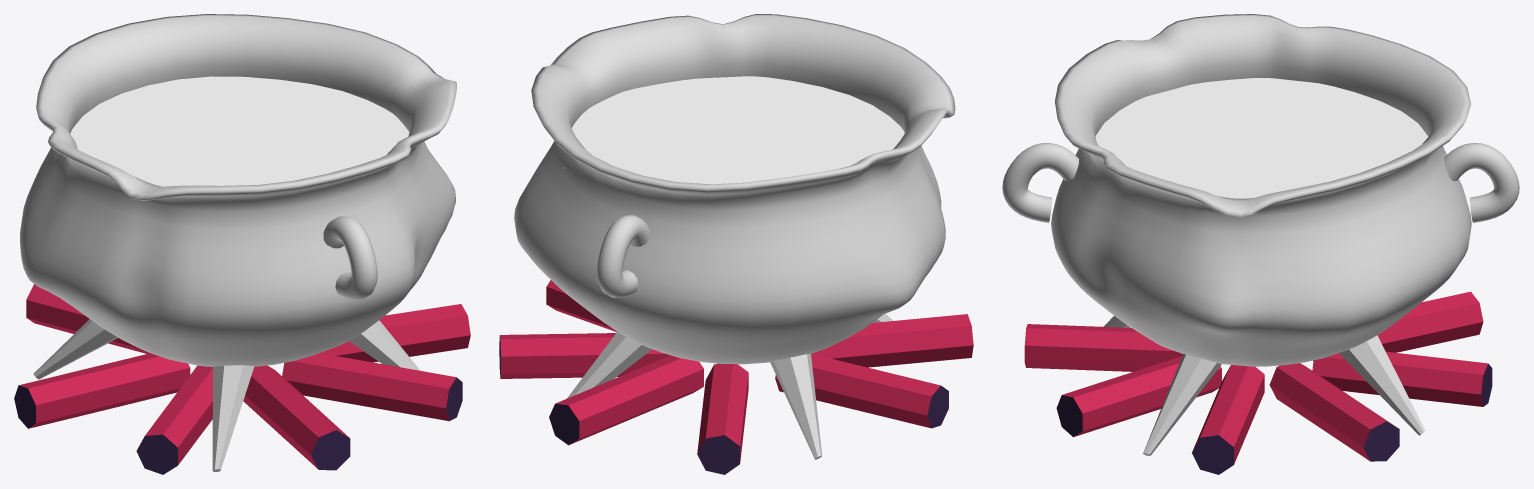
The model's file is Cauldron.fbx.
The picture shows the model from 3 angles, left to right: view 1: azimuth 30°, elevation 25°; view 2: azimuth 150°, elevation 25°; view 3: azimuth 270°, elevation 25°; orthographic projection.
Parts seen in each view (by area): view 1: Cauldron, Logs, Water, Feet, Handles; view 2: Cauldron, Logs, Water, Feet, Handles; view 3: Cauldron, Logs, Water, Handles, Feet.
Part boxes in pixels (<box>): Cauldron: <box>20,14,456,366</box>; Logs: <box>14,284,470,474</box>; Water: <box>70,76,409,186</box>; Feet: <box>33,319,420,471</box>; Handles: <box>323,216,377,299</box>; Cauldron: <box>514,14,955,364</box>; Logs: <box>499,280,973,474</box>; Water: <box>564,76,904,184</box>; Feet: <box>567,313,892,459</box>; Handles: <box>596,215,649,297</box>; Cauldron: <box>1051,14,1471,366</box>; Logs: <box>1024,291,1492,474</box>; Water: <box>1095,78,1428,203</box>; Handles: <box>1002,143,1519,222</box>; Feet: <box>1103,316,1425,455</box>.
Bounding box in the file's own units: 116 × 78.51 × 128.
